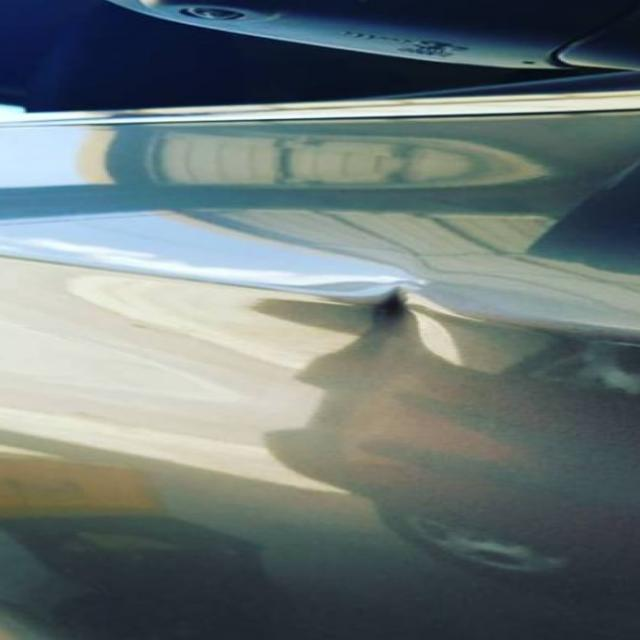dents: (268, 260, 574, 408)
